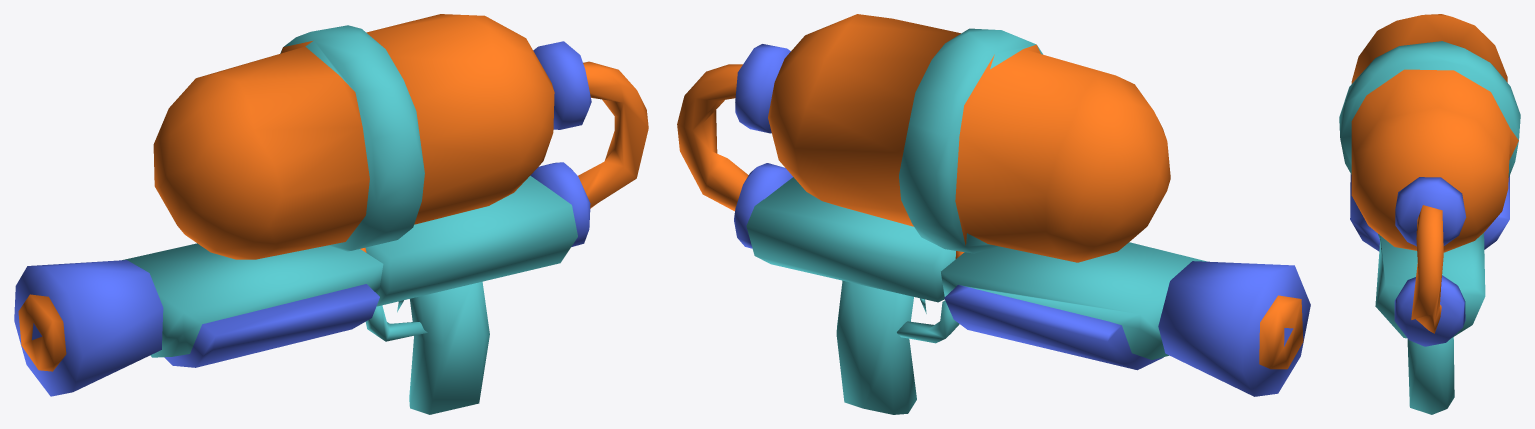
File: Watergun_LP.fbx
3 views of the same model, side by side, from view 1: azimuth 30°, elevation 25°; view 2: azimuth 150°, elevation 25°; view 3: azimuth 270°, elevation 25° (orthographic). The views are drawn at different scales.
Visible parts, largest first — view 1: Pistolet à eau; view 2: Pistolet à eau; view 3: Pistolet à eau.
Boxes of the visible parts, x1=… form: Pistolet à eau: x1=14, y1=14, x2=648, y2=414; Pistolet à eau: x1=677, y1=14, x2=1310, y2=414; Pistolet à eau: x1=1339, y1=14, x2=1520, y2=414.
Bounding box in the file's own units: 1026 × 631 × 328.
